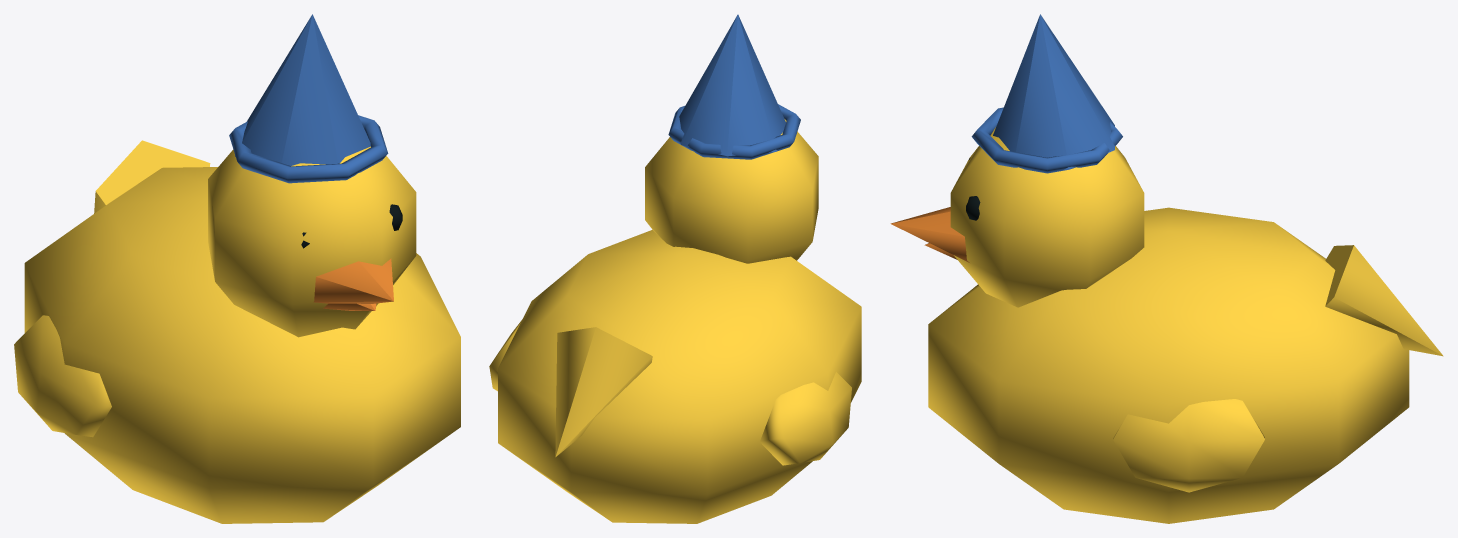
Rendered from duck-wizard.glb.
The picture shows the model from 3 angles, left to right: view 1: azimuth 30°, elevation 25°; view 2: azimuth 150°, elevation 25°; view 3: azimuth 270°, elevation 25°; orthographic projection. The views are drawn at different scales.
Visible parts, largest first — view 1: CouncilDuck_wizard; view 2: CouncilDuck_wizard; view 3: CouncilDuck_wizard.
Part boxes in pixels (<box>): CouncilDuck_wizard: <box>14,14,460,523</box>; CouncilDuck_wizard: <box>489,14,861,523</box>; CouncilDuck_wizard: <box>890,14,1443,523</box>.
Size of the model in its own units: 2.46 by 3.18 by 3.29.
